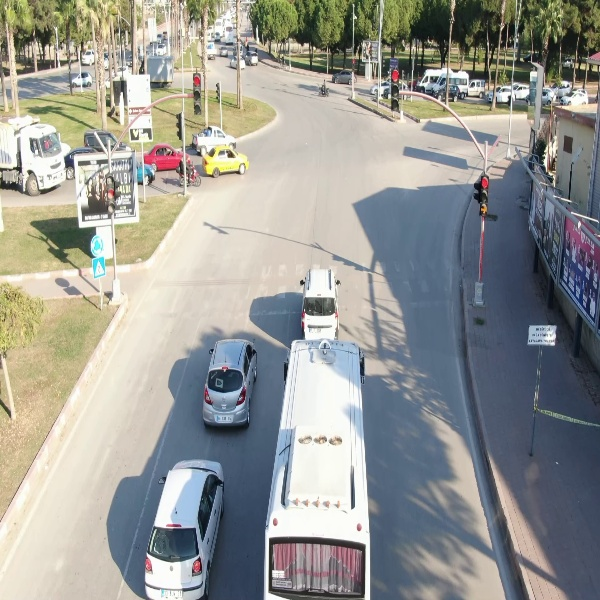car: (145, 455, 226, 600), (200, 338, 260, 429), (297, 266, 341, 342), (201, 143, 250, 177), (558, 88, 590, 107), (485, 85, 518, 103), (331, 66, 358, 86), (69, 68, 92, 91), (435, 84, 462, 101)
